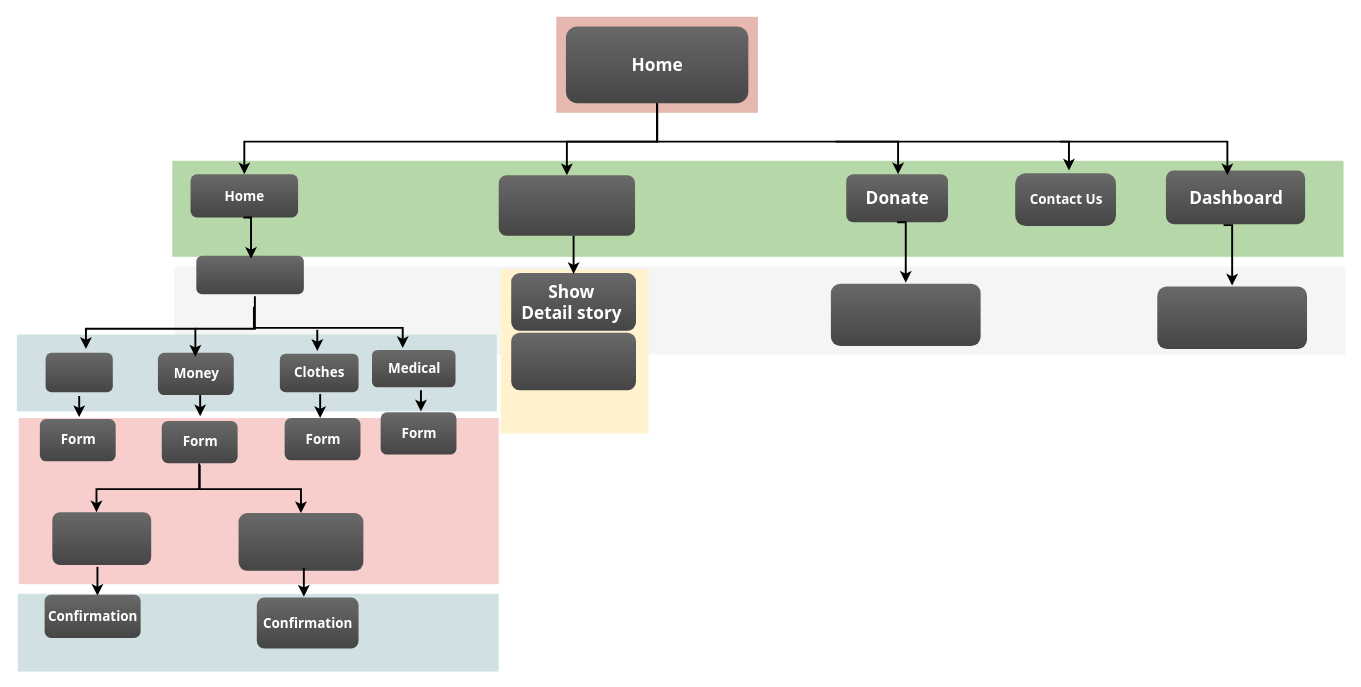
This 1361x687 diagram has some shape labels left out. The centre of each missing label's shape, as x and y in pixels:
"About Us" goes at (x=566, y=205).
"Donate Types" goes at (x=249, y=274).
"Dropdown Donate Types" goes at (x=905, y=314).
"Goods" goes at (x=78, y=372).
"Lists and charts Donated" goes at (x=1232, y=317).
"Monthly Paymnet form" goes at (x=300, y=541).
"One Time Payment Form" goes at (x=101, y=538).
"View Pictures" goes at (x=573, y=361).
